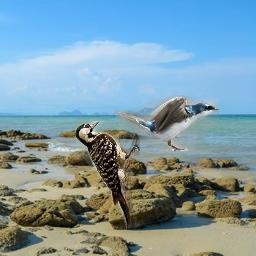Swallow: (114, 95, 219, 151)
Woodpecker: (75, 121, 140, 230)
